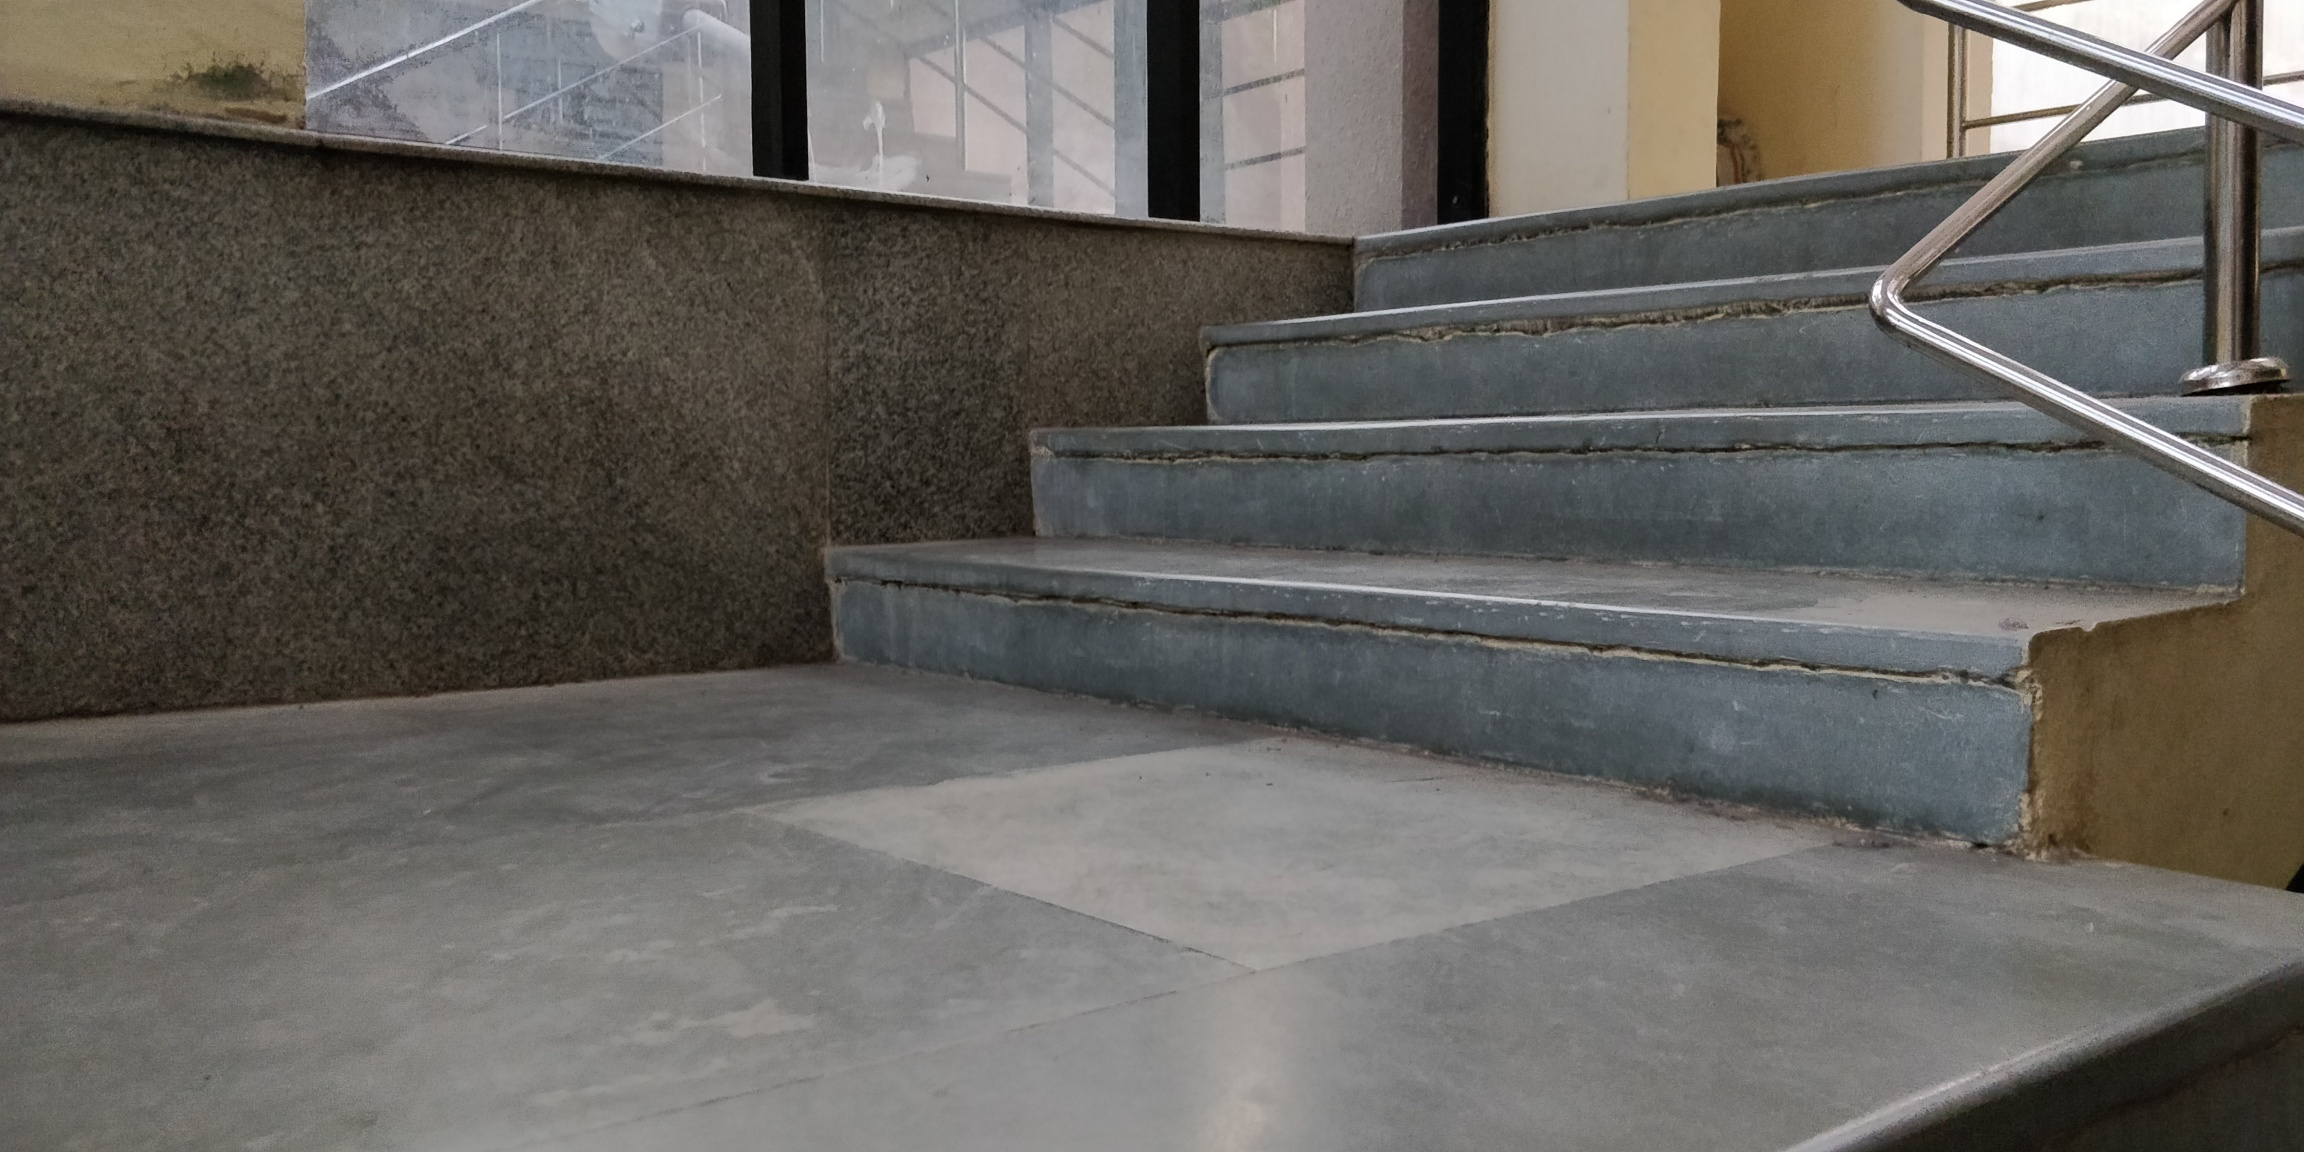stairs_up: (771, 118, 2223, 783)
